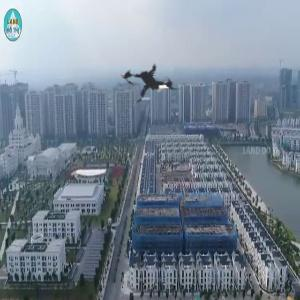drone: (101, 35, 203, 137)
